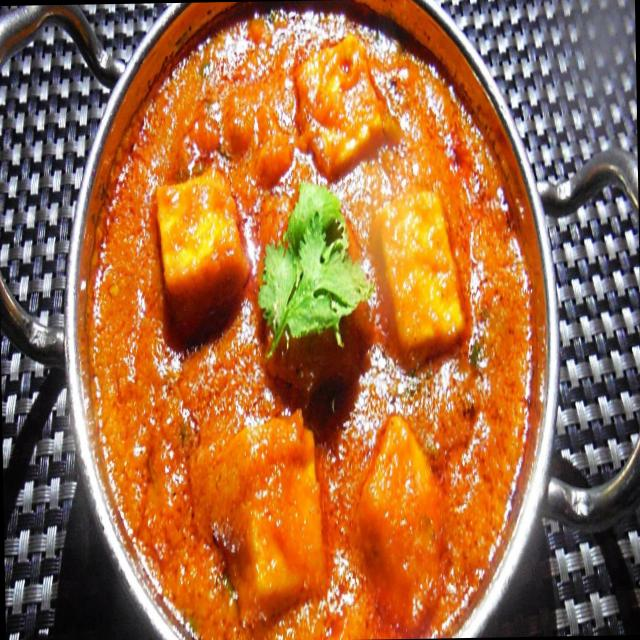ShahiPaneer: (77, 0, 543, 640)
